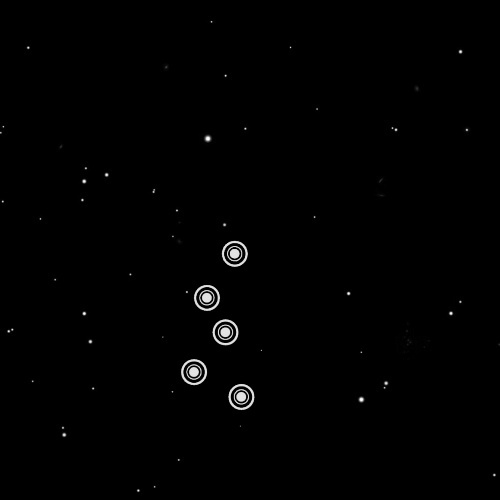cassiopeia: (157, 224, 269, 422)
